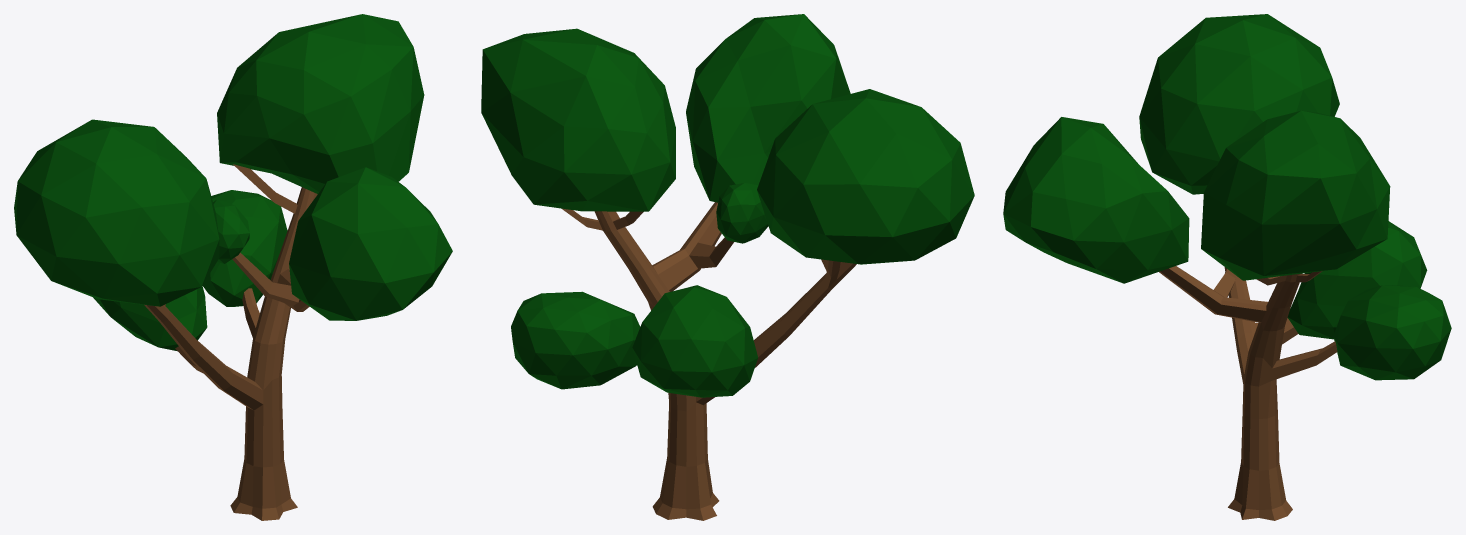
The picture shows the model from 3 angles, left to right: view 1: azimuth 30°, elevation 25°; view 2: azimuth 150°, elevation 25°; view 3: azimuth 270°, elevation 25°; orthographic projection. The views are drawn at different scales.
Visible parts, largest first — view 1: Icosphere.003, Cylinder.021; view 2: Icosphere.003, Cylinder.021; view 3: Icosphere.003, Cylinder.021.
Boxes of the visible parts, x1,y1,x2,y2 form: Icosphere.003: (14,14,452,351); Cylinder.021: (144,164,317,520); Icosphere.003: (481,14,974,397); Cylinder.021: (562,202,856,520); Icosphere.003: (1003,14,1451,380); Cylinder.021: (1159,266,1337,520).
Bounding box in the file's own units: 8.54 × 8.71 × 8.26.
